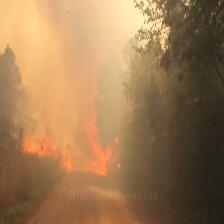fire: (24, 70, 121, 177)
